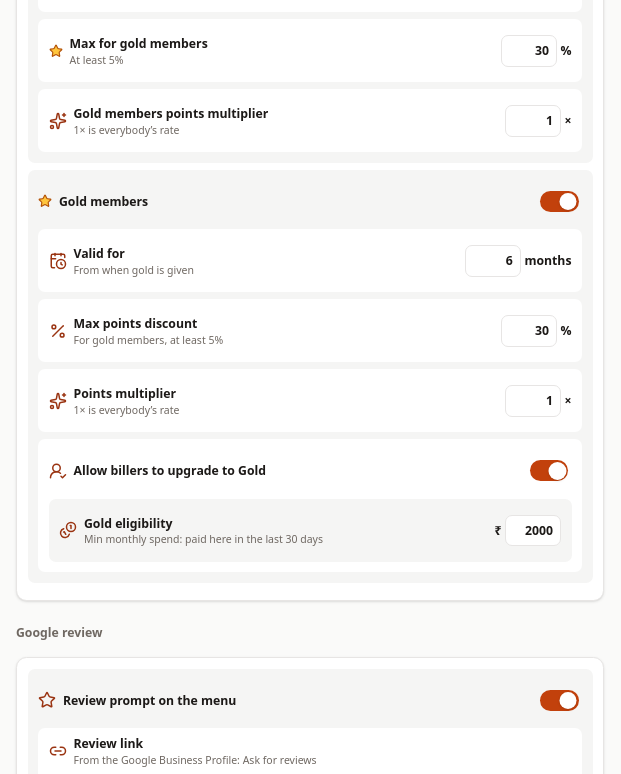
the points multiplier in both places › is one value: typing in the Gold members copy changes the Points one
(page scrolled)
Replace the text in the field with test id "loyalty-multiplier-copy" with "1.5" at (533, 401), box [505,385,561,416]
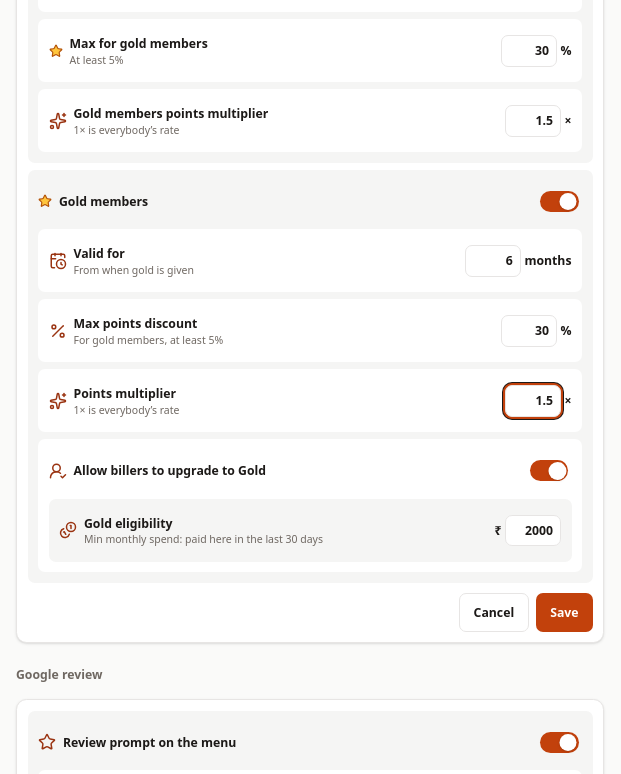
Now the field with test id "loyalty-multiplier" holds "1.5", box [505,105,561,136]
